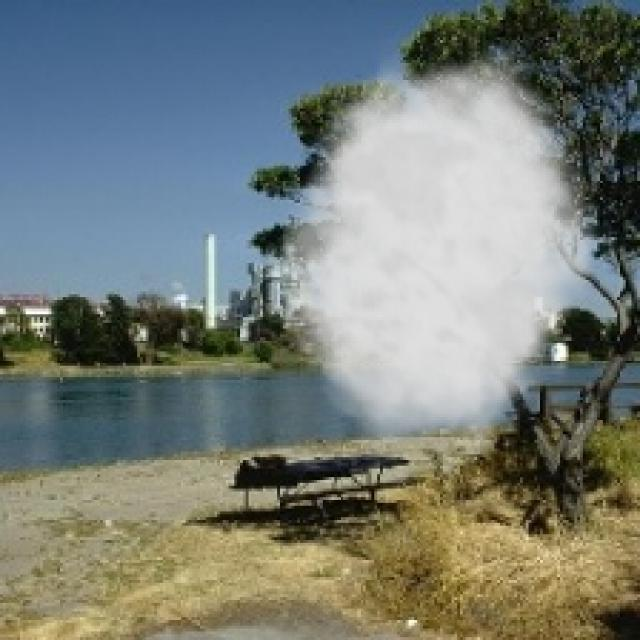smoke: (263, 37, 606, 457)
